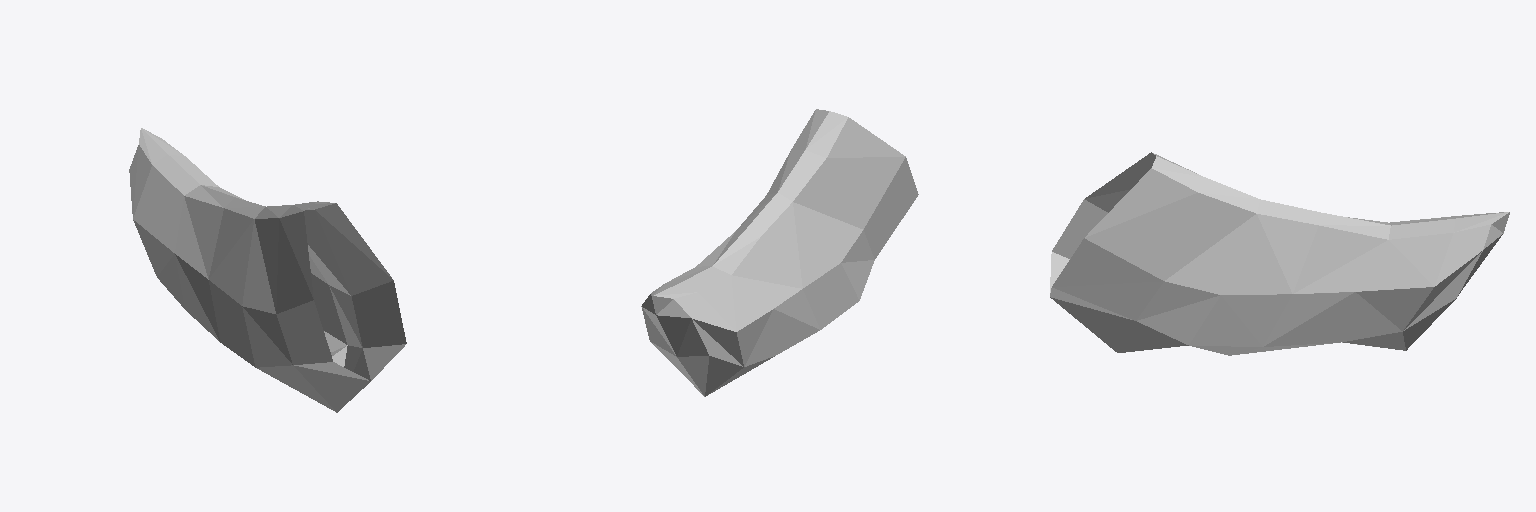
File: 05_tail_tip.obj
The picture shows the model from 3 angles: view 1: azimuth 30°, elevation 25°; view 2: azimuth 150°, elevation 25°; view 3: azimuth 270°, elevation 25°; orthographic projection.
Parts seen in each view (by area): view 1: polySurface23 WolfMesh; view 2: polySurface23 WolfMesh; view 3: polySurface23 WolfMesh.
Part boxes in pixels (left/top/right/bottom): polySurface23 WolfMesh: left=129, top=128, right=406, bottom=412; polySurface23 WolfMesh: left=641, top=109, right=918, bottom=396; polySurface23 WolfMesh: left=1050, top=152, right=1509, bottom=355.
Size of the model in its own units: 0.2839 by 0.5884 by 1.23.